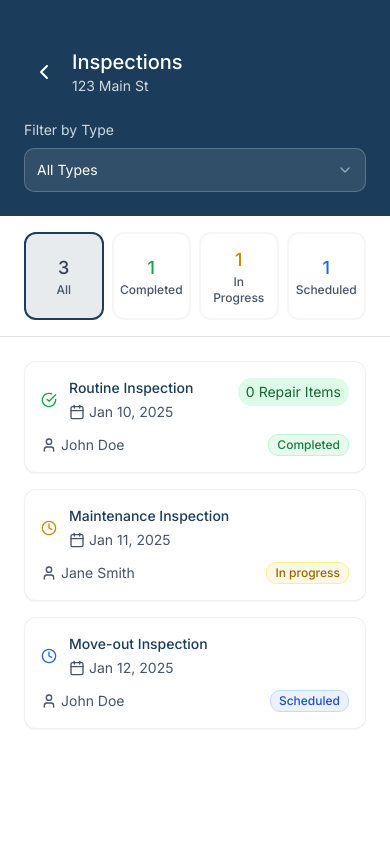
Test: MobileInspectionsPage - Select Component › should display all available inspection types
The image size is (390, 844).
What coordinates should you click on to do the following:
click the dropdown labelled "All Types"
I would click on:
 (67, 170)
Its box is top-left (24, 148), bottom-right (366, 192).
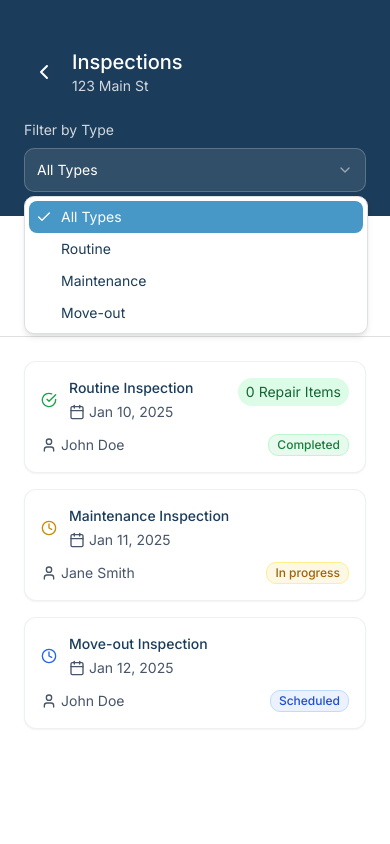
Now the text "Routine" is shown, box top-left (61, 239), bottom-right (111, 259)
Now the text "Maintenance" is shown, box top-left (61, 271), bottom-right (146, 291)
Now the text "Move-out" is shown, box top-left (61, 303), bottom-right (125, 323)
